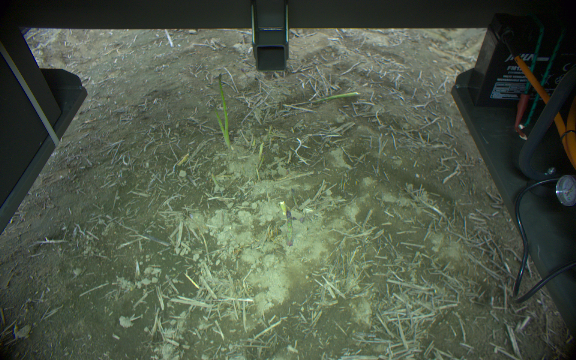aspa: (291, 91, 360, 113), (216, 72, 232, 147), (209, 102, 232, 149), (283, 209, 293, 247)
